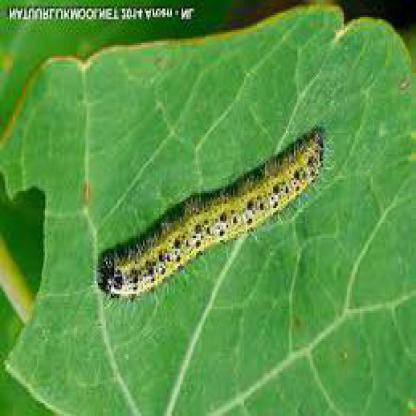pieris: (101, 130, 330, 292)
